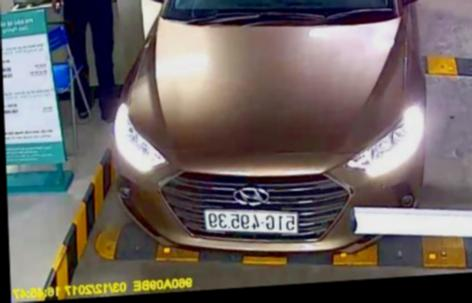License_Plate: (202, 201, 300, 235)
